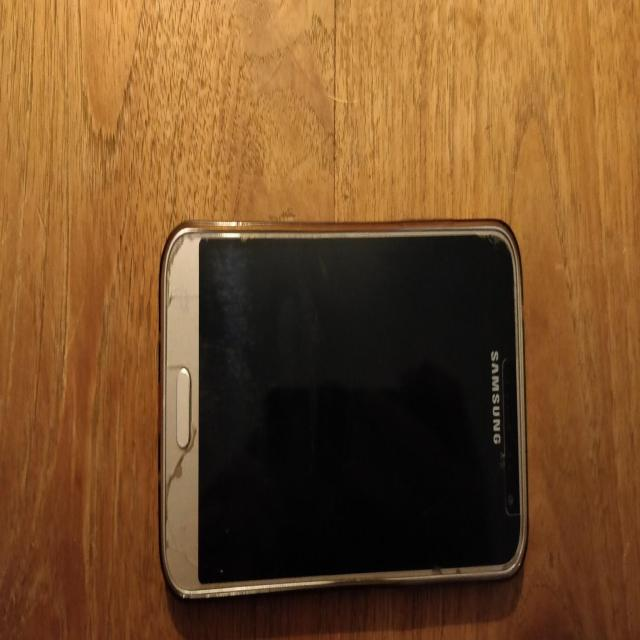Phone: (156, 214, 532, 600)
